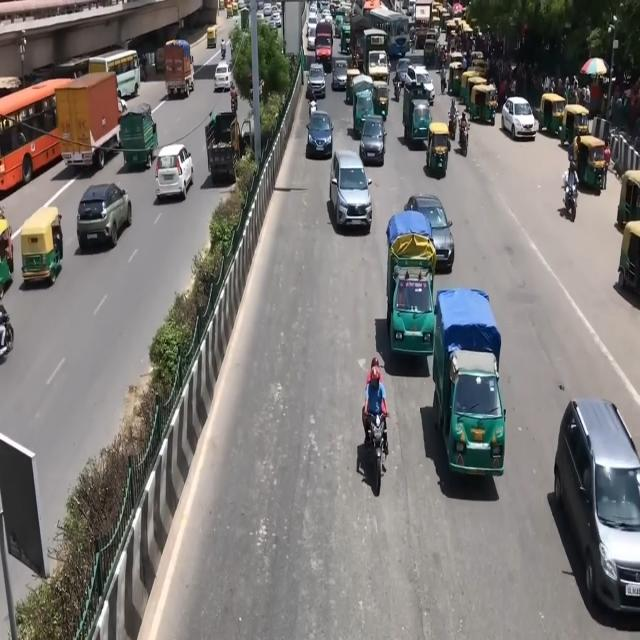auto: (20, 205, 64, 284), (119, 104, 158, 171), (572, 133, 607, 192), (616, 219, 640, 300), (616, 168, 640, 230), (426, 121, 452, 177), (469, 82, 500, 127), (562, 103, 590, 149), (540, 92, 566, 138), (371, 81, 390, 122), (448, 60, 465, 96), (346, 68, 362, 104), (207, 25, 217, 48)
bike-auto: (362, 404, 392, 494), (564, 156, 578, 204), (459, 112, 469, 144), (449, 98, 458, 129), (309, 98, 317, 121), (440, 72, 447, 94), (220, 38, 226, 58), (229, 39, 233, 60)
